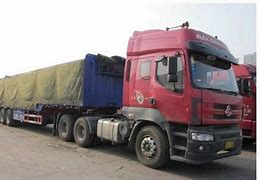bigtruck: (0, 24, 242, 163)
